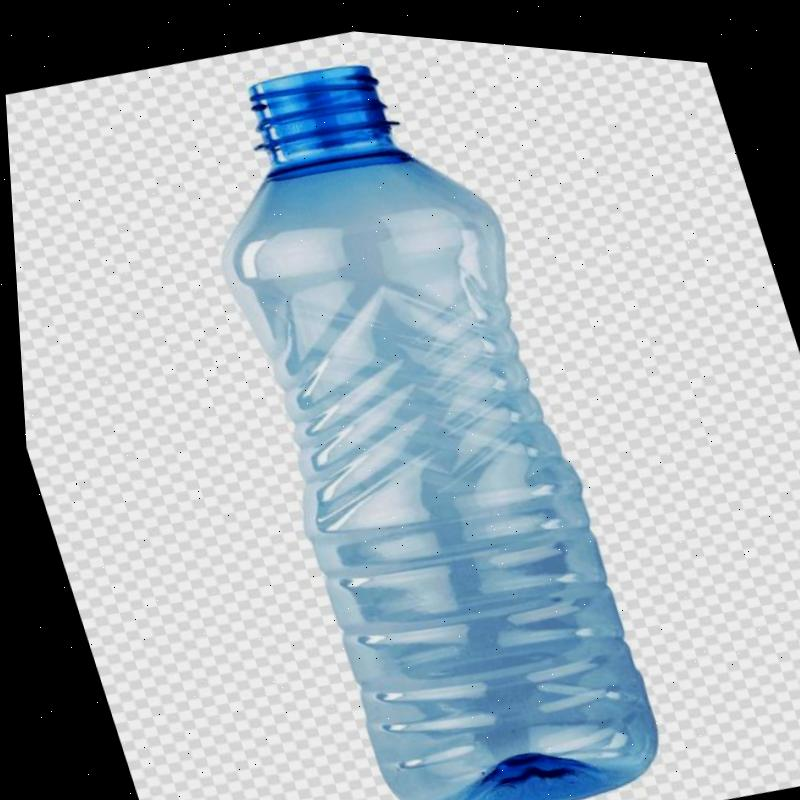botella: (150, 18, 671, 800)
